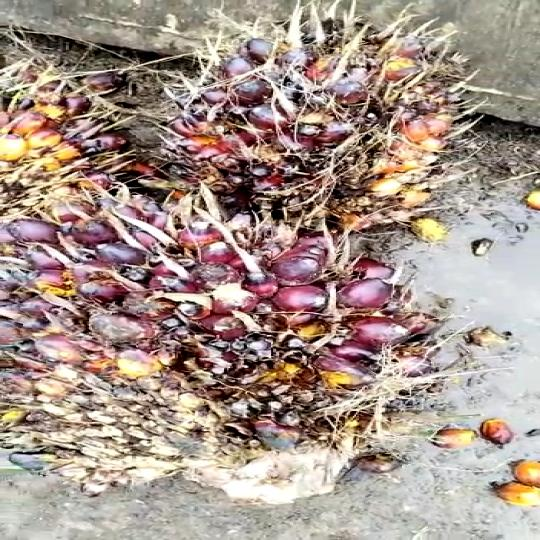masak: (4, 185, 439, 493), (148, 0, 476, 261)
